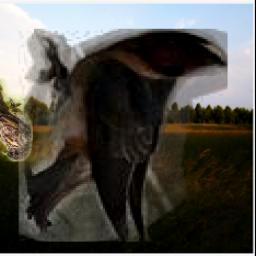Sparrow: (0, 79, 33, 162)
Swallow: (18, 30, 226, 243)
